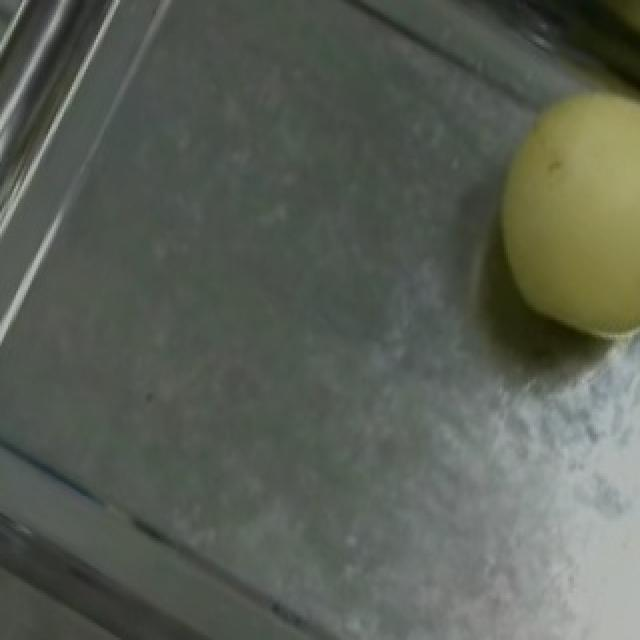Fruit: (446, 50, 640, 372)
